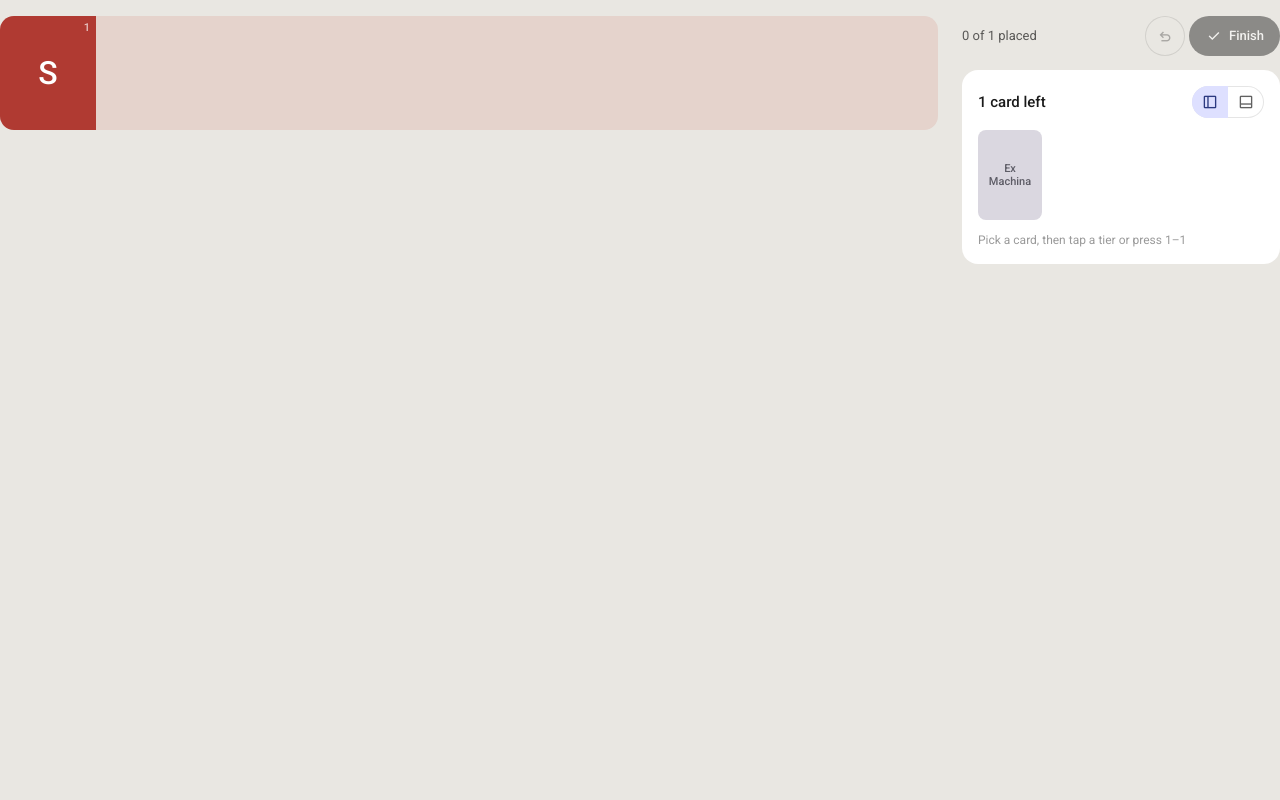
Test: Keep this ranking › is offered to a guest once the ranking is live, and the link alone is a real exit
Click the button "Ex Machina".
click(1010, 175)  # box left=978, top=130, right=1042, bottom=220
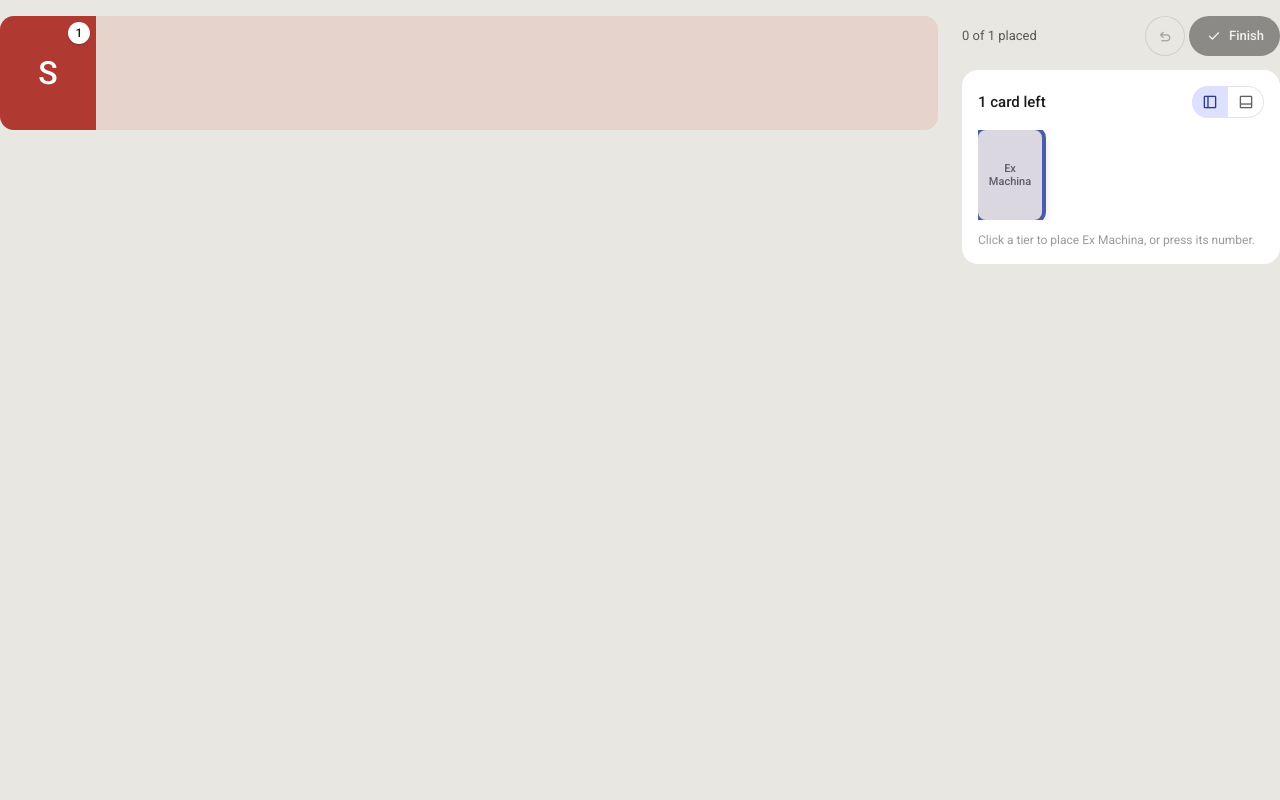
Type keys "1"
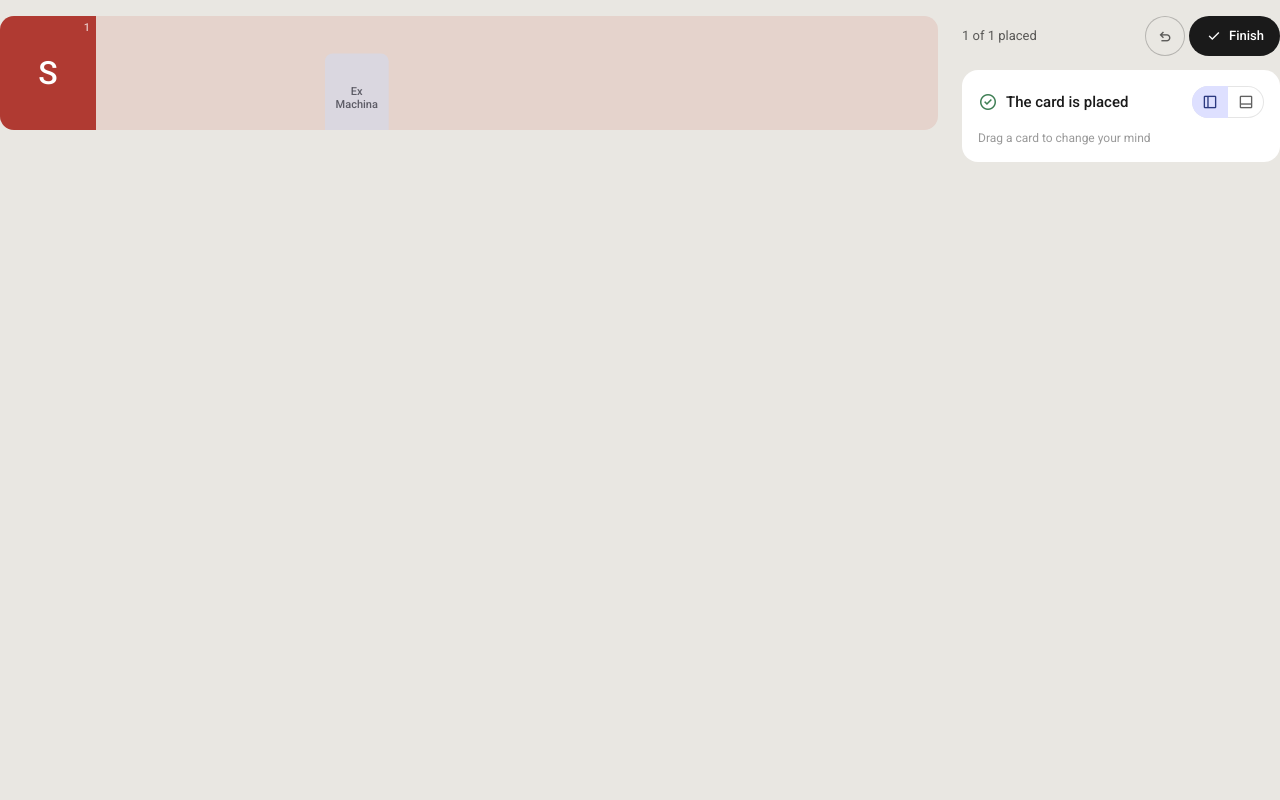
Click the button "Finish".
click(1235, 36)  # box left=1189, top=16, right=1279, bottom=56
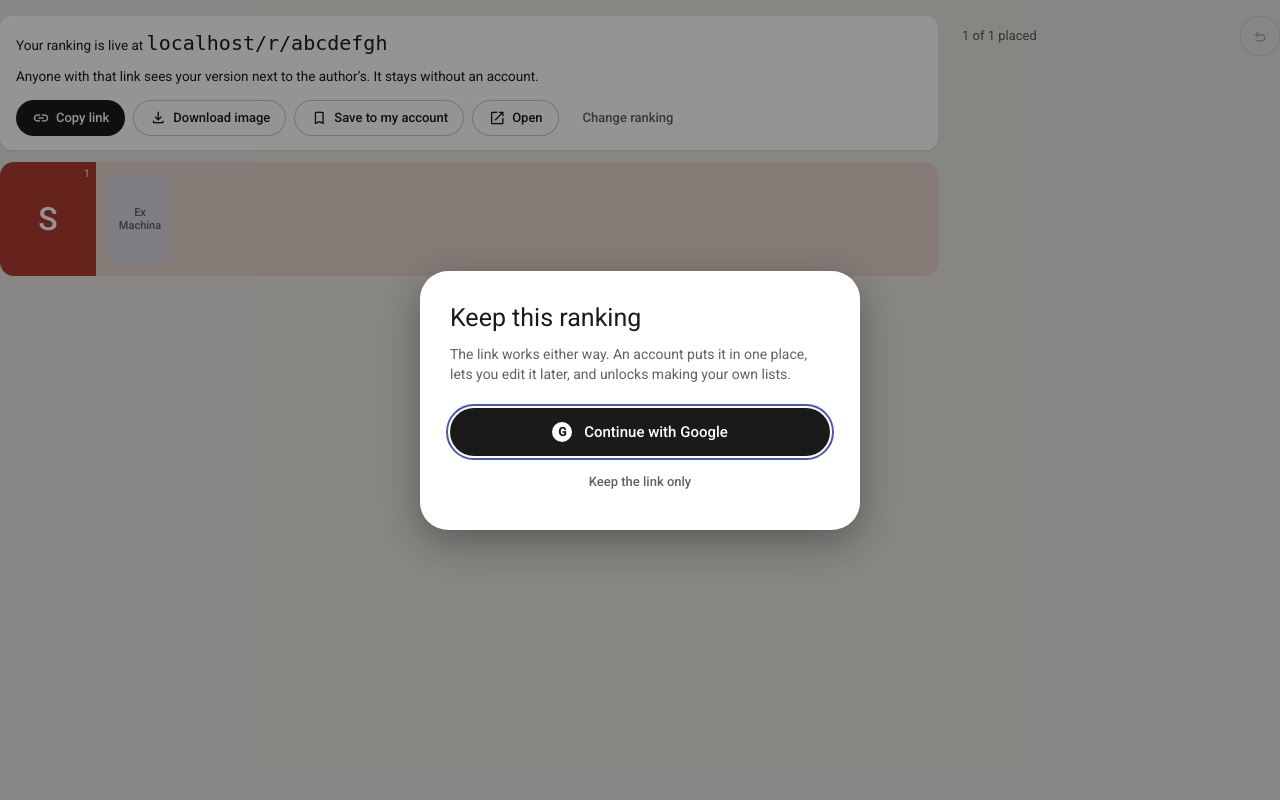
Expected: the text "Your ranking is live at" is shown, left=16, top=37, right=143, bottom=53
Expected: the dialog "Keep this ranking" is shown, left=420, top=270, right=860, bottom=530
Expected: the text "It stays without an account" is shown, left=16, top=68, right=539, bottom=84
Click the button "Keep the link only".
click(640, 482)  # box left=573, top=464, right=707, bottom=500
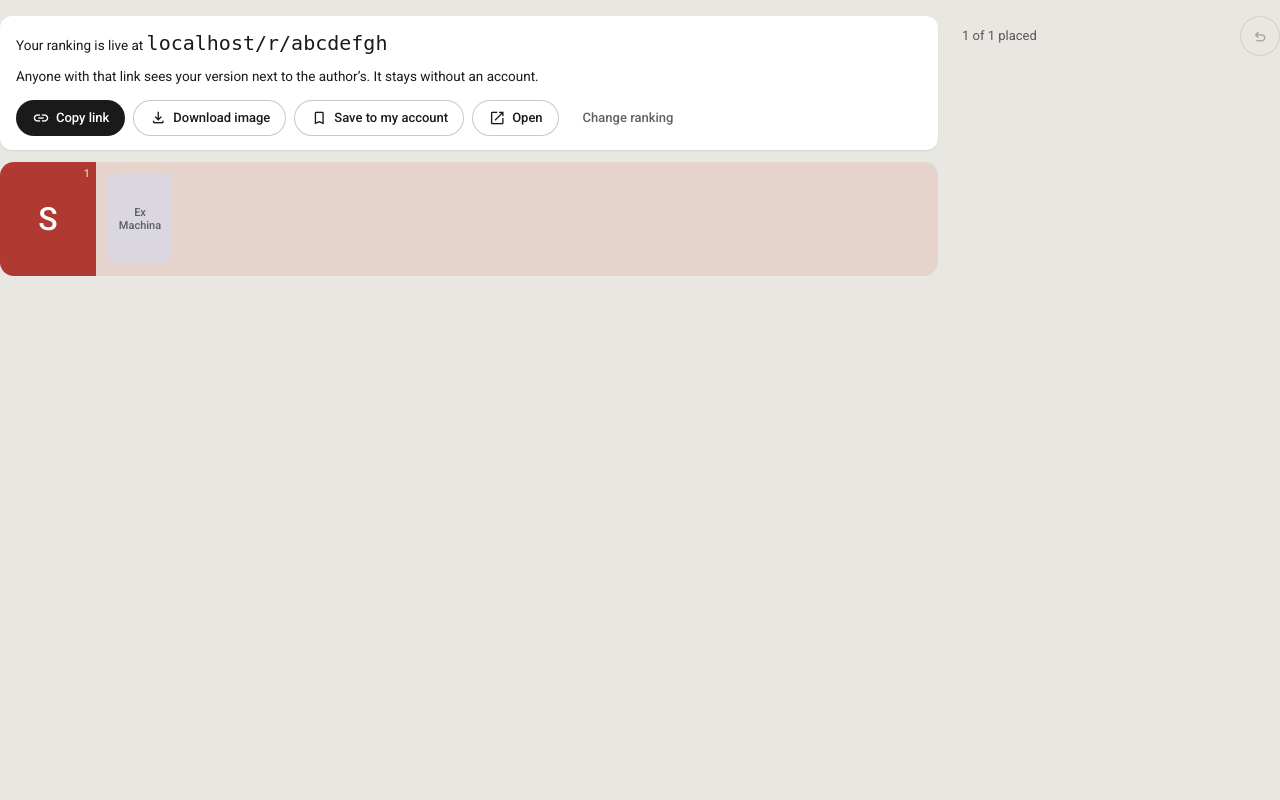
Expected: the heading "Keep this ranking" is gone
Click the button "Save to my account".
click(379, 118)  # box left=294, top=100, right=464, bottom=136
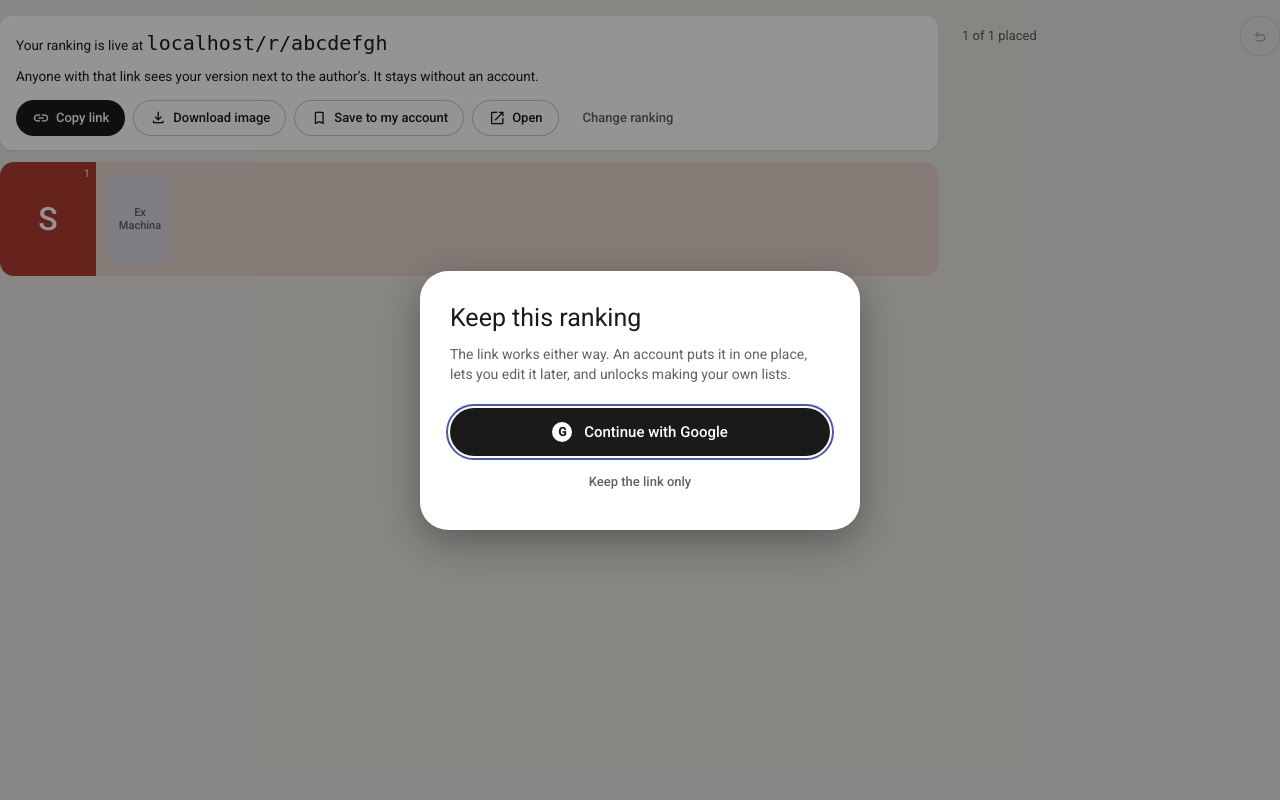
Expected: the dialog "Keep this ranking" is shown, left=420, top=270, right=860, bottom=530
